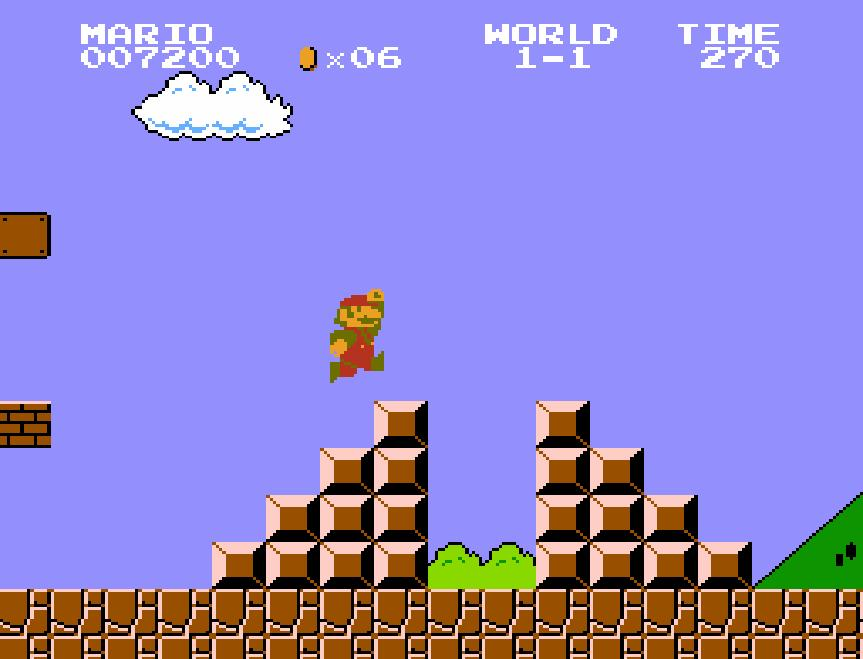big_mario: (328, 286, 386, 384)
